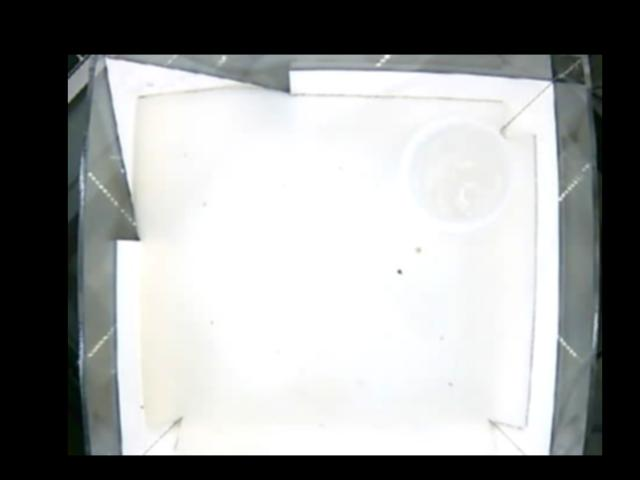Bottle: (396, 120, 512, 237)
